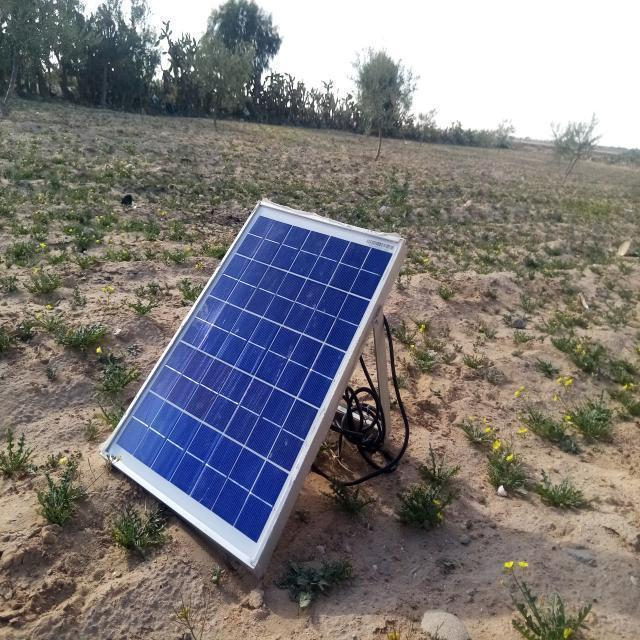Normal Solar Panel: (103, 202, 403, 566)
